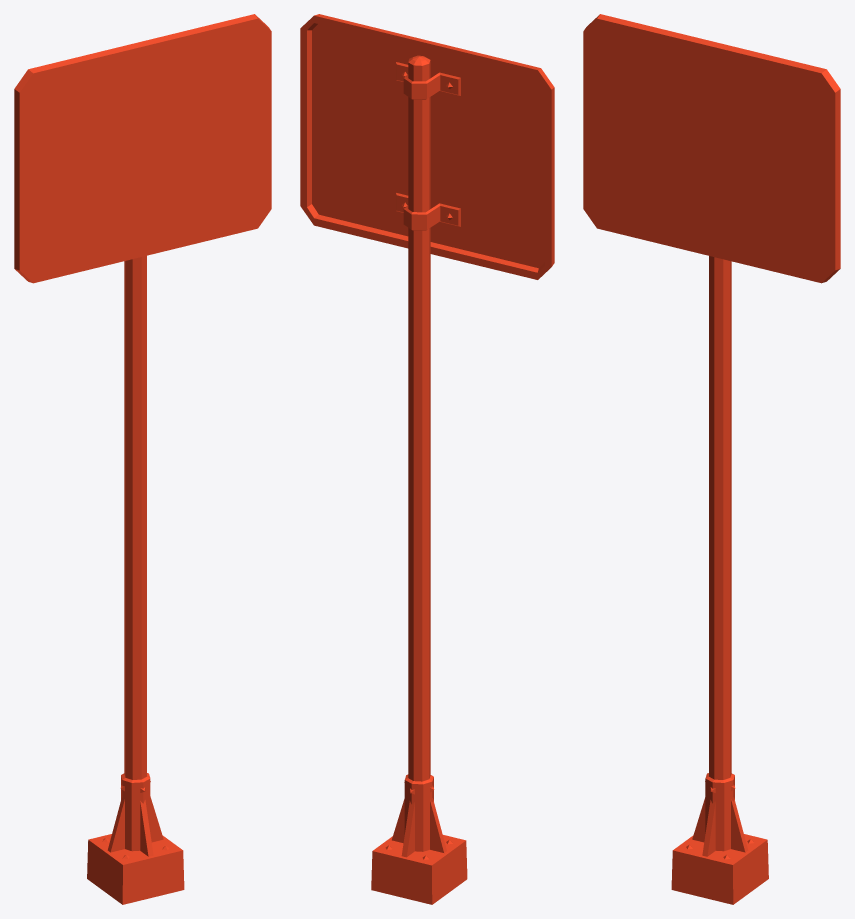
The model's file is SM_Sign_Straight_B_City.fbx.
3 renders of one model, left to right at view 1: azimuth 30°, elevation 25°; view 2: azimuth 150°, elevation 25°; view 3: azimuth 330°, elevation 25°, orthographic.
Visible parts, largest first — view 1: SM_Sign_Straight_B_City; view 2: SM_Sign_Straight_B_City; view 3: SM_Sign_Straight_B_City.
Boxes of the visible parts, left/top/right/bottom form: SM_Sign_Straight_B_City: left=14, top=14, right=271, bottom=904; SM_Sign_Straight_B_City: left=300, top=14, right=554, bottom=904; SM_Sign_Straight_B_City: left=583, top=14, right=840, bottom=904.
Size of the model in its own units: 0.7567 by 2.41 by 0.1839.
